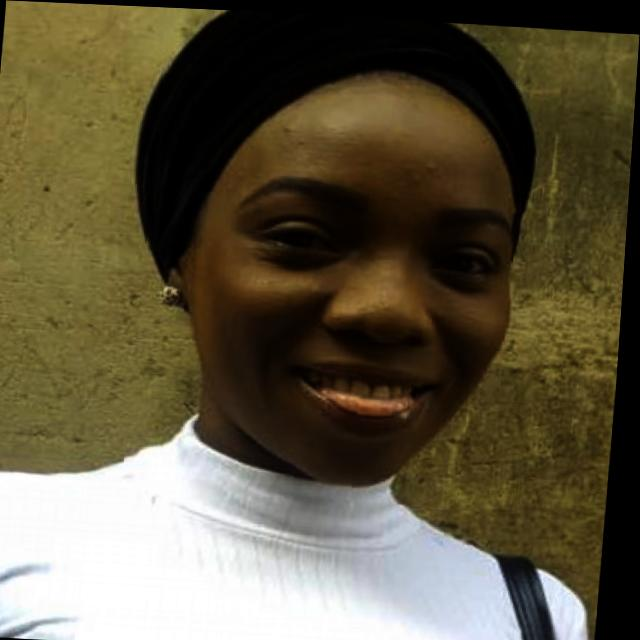happy: (127, 5, 563, 507)
